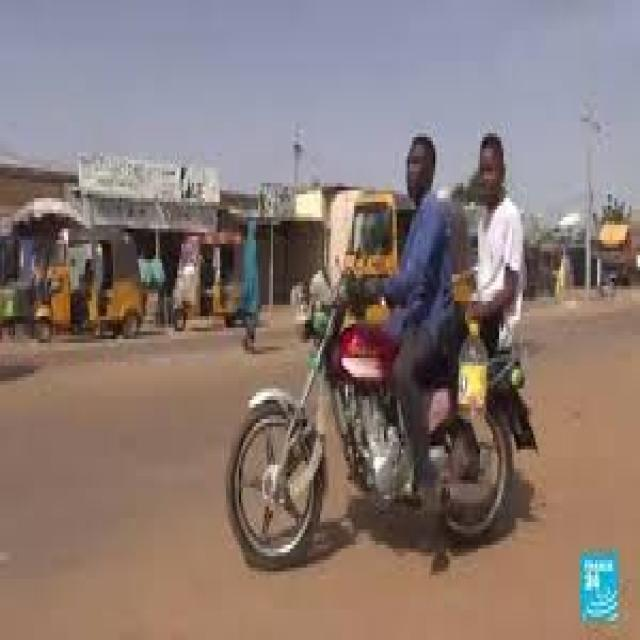Without Helmet: (476, 124, 511, 216), (400, 130, 438, 213)
